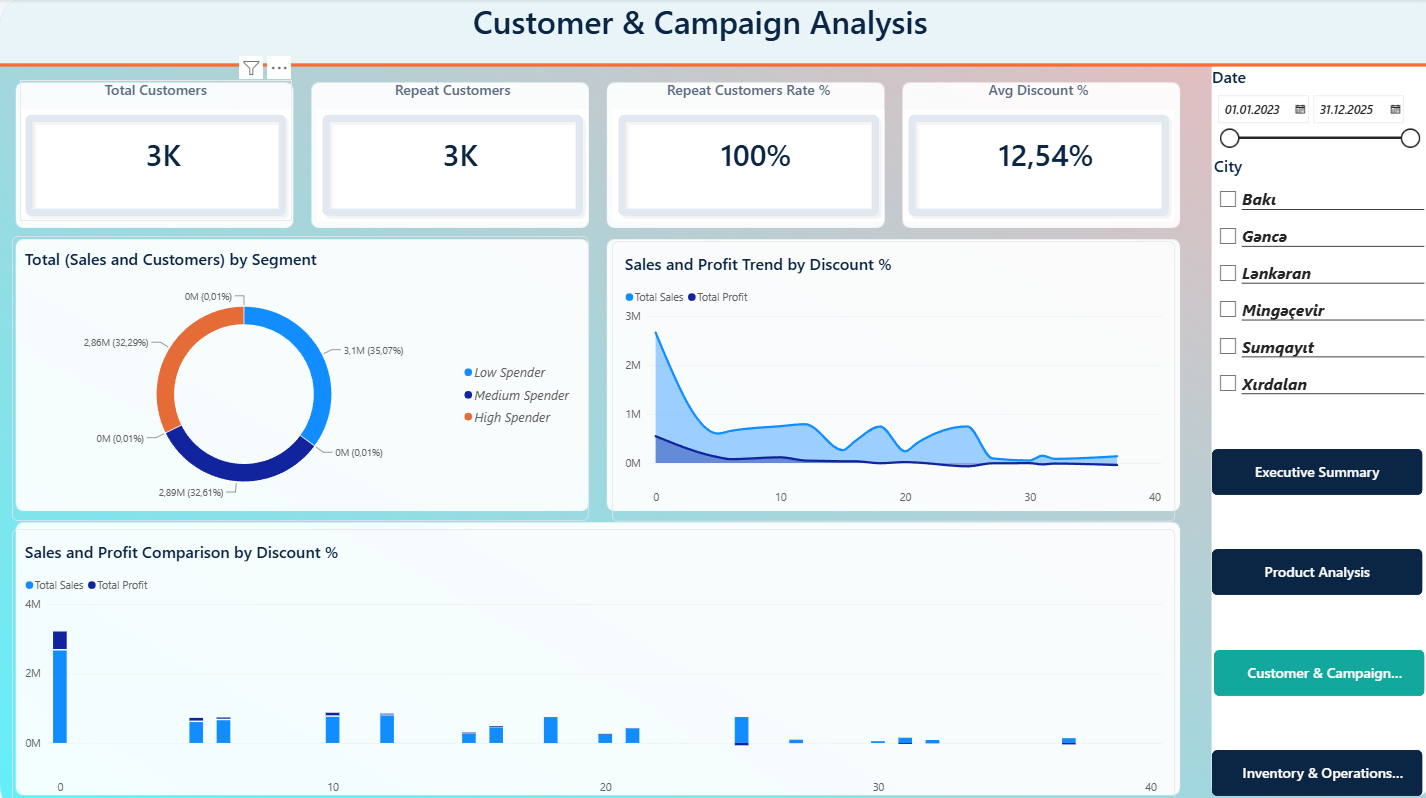

Layout of this report page (visuals, bound fields, positions):
{"tool":"powerbi","page":{"name":"Customer & Campaign Analysis","canvas":[1920,1080],"ordinal":2},"visuals":[{"type":"cardVisual","title":"Total Customers","fields":{"Data":["Ölçülər.Total Customers"]},"box":[27.1,107.1,361.2,188.8],"z":0},{"type":"cardVisual","title":"Repeat Customers Rate %","fields":{"Data":["Ölçülər.Repeat Customer Rate %"]},"box":[814.8,107.1,361,188],"z":1000},{"type":"cardVisual","title":"Avg Discount %","fields":{"Data":["Ölçülər.Average Discount %"]},"box":[1201.4,107.1,361,188],"z":2000},{"type":"cardVisual","title":"Repeat Customers","fields":{"Data":["Ölçülər.Repeat Customers"]},"box":[421.1,107.5,361,188],"z":3000},{"type":"textbox","box":[377.1,0,1107.1,88.6],"z":4000},{"type":"slicer","title":"Date","fields":{"Values":["DimDate.Date"]},"box":[1611.4,88.6,280,112.9],"z":5000},{"type":"slicer","title":"City","fields":{"Values":["DimStore.City"]},"box":[1614.3,207.1,280,332.9],"z":6000},{"type":"donutChart","title":"Total (Sales and Customers) by Segment","fields":{"Category":["DimCustomer.Segment"],"Y":["Ölçülər.Total Sales","Ölçülər.Total Customers"]},"box":[15.7,315.7,767.1,378.6],"z":7000},{"type":"areaChart","title":"Sales and Profit Trend by Discount %","fields":{"Category":["FactSales.DiscountPct"],"Y":["Ölçülər.Total Sales","Ölçülər.Total Profit"]},"box":[814.3,321.4,748.6,372.9],"z":8000},{"type":"columnChart","title":"Sales and Profit Comparison by Discount %","fields":{"Category":["FactSales.DiscountPct"],"Y":["Ölçülər.Total Sales","Ölçülər.Total Profit"]},"box":[15.7,704.3,1547.1,375.7],"z":9000},{"type":"actionButton","title":"OVERVIEW","box":[1614.3,865.2,280,61.4],"z":10000},{"type":"actionButton","title":"OVERVIEW","box":[1611.4,598.6,280,61.4],"z":11000},{"type":"actionButton","title":"OVERVIEW","box":[1611.4,998.6,280,61.4],"z":12000},{"type":"actionButton","title":"OVERVIEW","box":[1611.4,731.9,280,61.4],"z":13000}]}

Visuals, with their boxes in screenshot pixels (x1, y1, x2, y2), scaled from the page's 1920x1080 canvas onto the 1426x798 screenshot:
"Total Customers" cardVisual: Rect(20, 79, 288, 219)
"Repeat Customers Rate %" cardVisual: Rect(605, 79, 873, 218)
"Avg Discount %" cardVisual: Rect(892, 79, 1160, 218)
"Repeat Customers" cardVisual: Rect(313, 79, 581, 218)
textbox: Rect(280, 0, 1102, 65)
"Date" slicer: Rect(1197, 65, 1405, 149)
"City" slicer: Rect(1199, 153, 1407, 399)
"Total (Sales and Customers) by Segment" donutChart: Rect(12, 233, 581, 513)
"Sales and Profit Trend by Discount %" areaChart: Rect(605, 237, 1161, 513)
"Sales and Profit Comparison by Discount %" columnChart: Rect(12, 520, 1161, 797)
"OVERVIEW" actionButton: Rect(1199, 639, 1407, 685)
"OVERVIEW" actionButton: Rect(1197, 442, 1405, 488)
"OVERVIEW" actionButton: Rect(1197, 738, 1405, 783)
"OVERVIEW" actionButton: Rect(1197, 541, 1405, 586)
